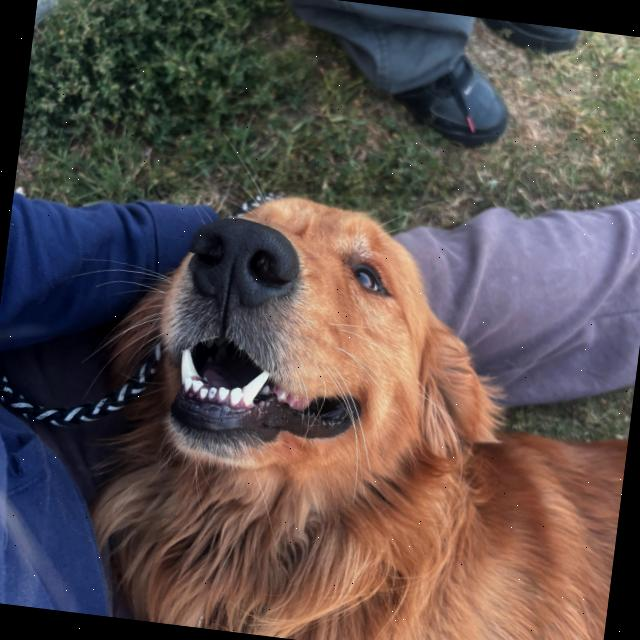golden_retriever_dog: (73, 161, 534, 554)
